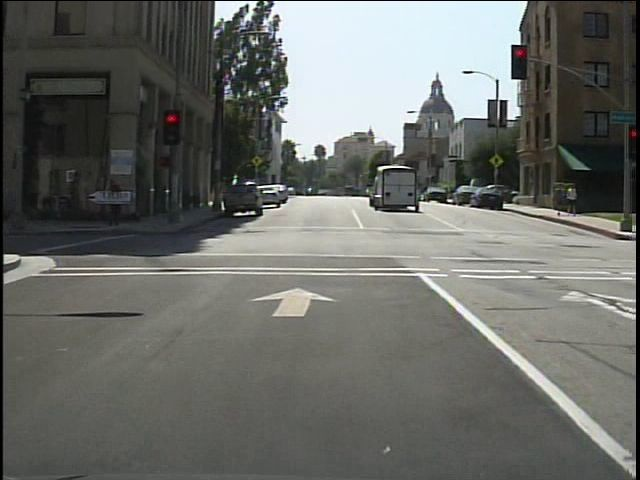person: (103, 174, 132, 228), (564, 184, 580, 216), (553, 184, 568, 218)
